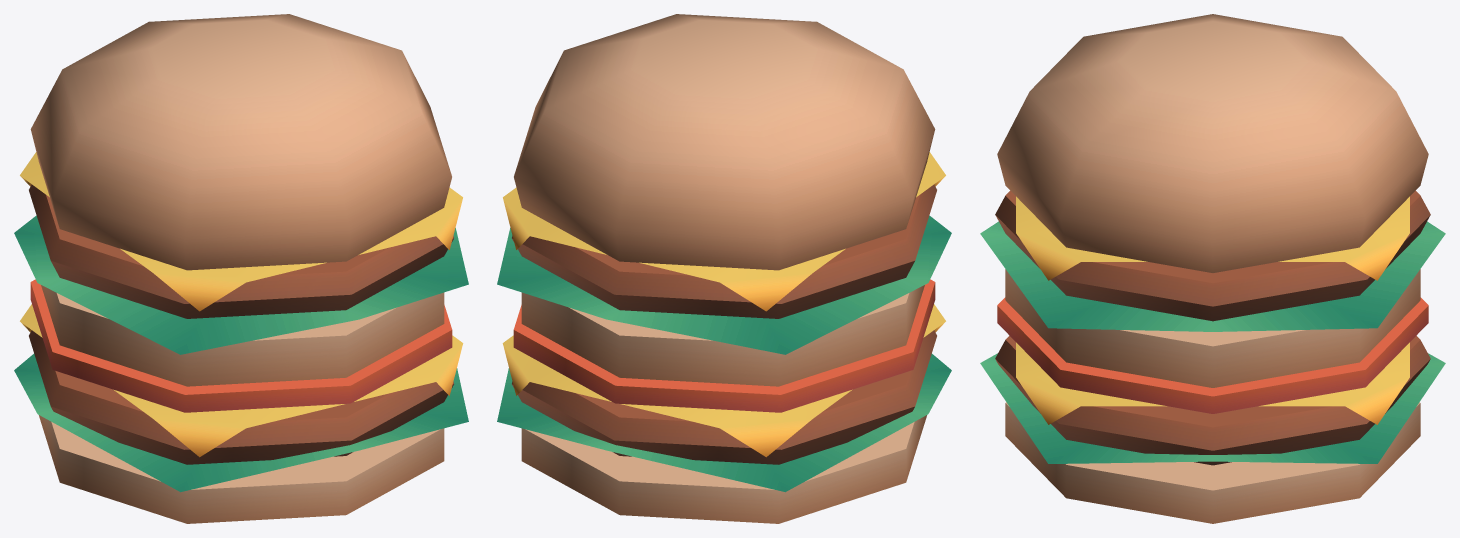
The model's file is food.burger_double.glb.
3 renders of one model, left to right at view 1: azimuth 30°, elevation 25°; view 2: azimuth 150°, elevation 25°; view 3: azimuth 270°, elevation 25°, orthographic.
Visible parts, largest first — view 1: bun-top, patty (×2), salad (×2), bun-bottom, bun-middle, cheese (×2), tomato; view 2: bun-top, patty (×2), salad (×2), bun-bottom, bun-middle, cheese (×2), tomato; view 3: bun-top, patty (×2), salad (×2), bun-bottom, bun-middle, tomato, cheese (×2).
Boxes of the visible parts, left/top/right/bottom form: bun-top: left=30, top=14, right=451, bottom=270; patty (×2): left=29, top=184, right=453, bottom=464; salad (×2): left=14, top=215, right=468, bottom=492; bun-bottom: left=39, top=415, right=444, bottom=523; bun-middle: left=41, top=285, right=444, bottom=386; cheese (×2): left=20, top=152, right=463, bottom=457; tomato: left=30, top=279, right=452, bottom=412; bun-top: left=514, top=14, right=935, bottom=270; patty (×2): left=512, top=184, right=936, bottom=464; salad (×2): left=497, top=215, right=951, bottom=492; bun-bottom: left=521, top=415, right=926, bottom=523; bun-middle: left=521, top=285, right=924, bottom=386; cheese (×2): left=502, top=152, right=945, bottom=457; tomato: left=513, top=279, right=935, bottom=412; bun-top: left=997, top=14, right=1428, bottom=272; patty (×2): left=995, top=190, right=1430, bottom=465; salad (×2): left=980, top=221, right=1445, bottom=463; bun-bottom: left=1005, top=402, right=1420, bottom=523; bun-middle: left=1005, top=269, right=1420, bottom=387; tomato: left=997, top=297, right=1428, bottom=413; cheese (×2): left=1016, top=196, right=1409, bottom=424.
Size of the model in its own units: 0.12 by 0.1069 by 0.12.
Materials: 1 (1 with a texture image).
